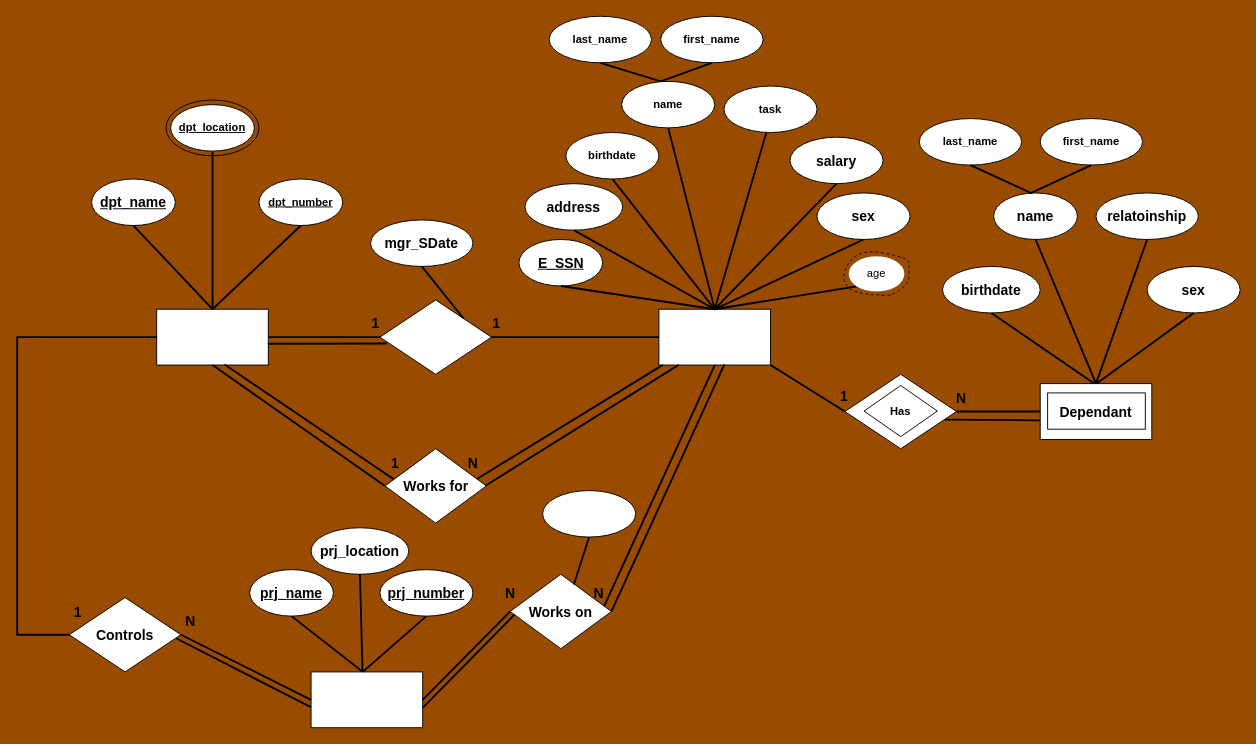
The diagram is 1256 pixels wide and 744 high, and some of its shapes have lost their labels. The centre of each missing label's shape, as x and y in pixels:
Department: point (212, 336)
Employee: point (714, 336)
hours: point (589, 513)
Manages: point (435, 336)
Project: point (366, 699)
